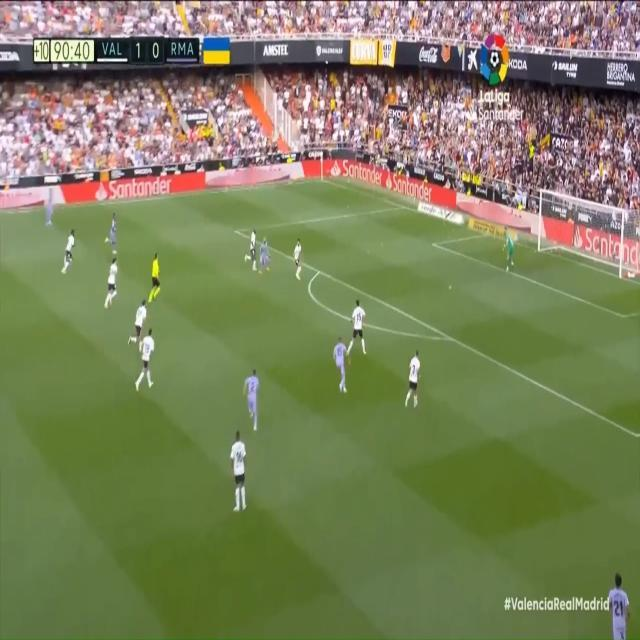goalkeeper: (502, 226, 515, 276)
player: (604, 566, 632, 640), (134, 319, 159, 395), (230, 427, 248, 516), (345, 297, 369, 356), (125, 295, 150, 350), (244, 362, 263, 434), (402, 347, 422, 411), (103, 254, 123, 315), (57, 226, 79, 278), (103, 206, 119, 261), (334, 335, 348, 395), (257, 230, 273, 279), (245, 226, 261, 273), (292, 239, 306, 287), (44, 187, 56, 237)
referee: (146, 242, 163, 309)
